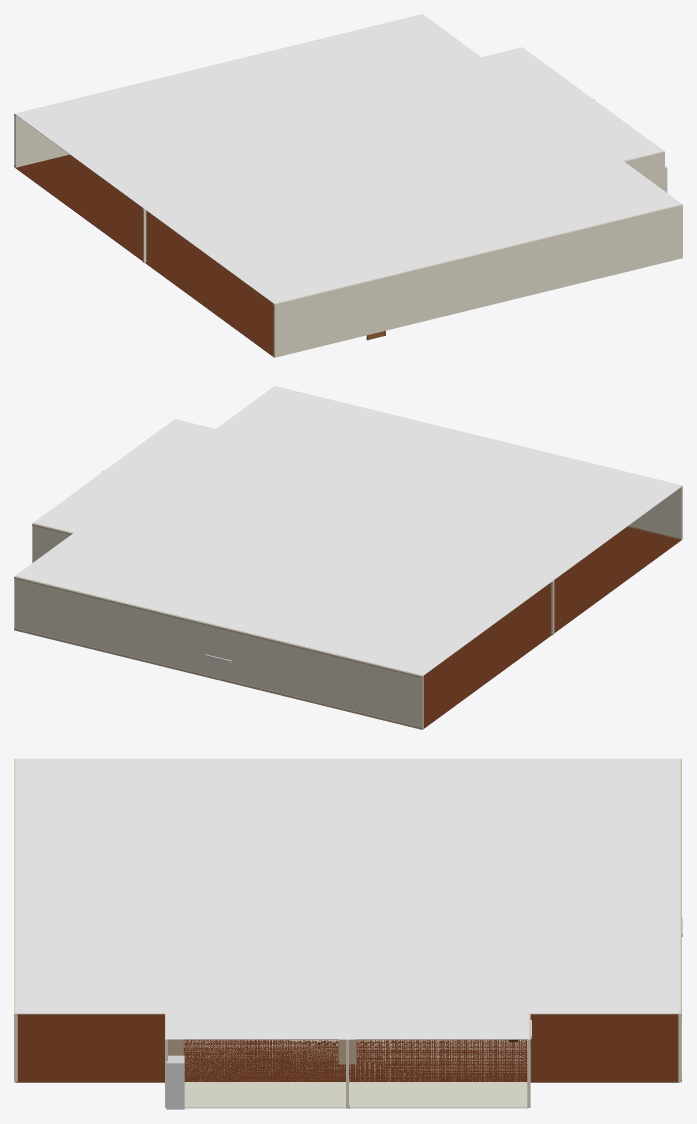
File: ultra_detailed_9526.obj
The picture shows the model from 3 angles, top to bottom: view 1: azimuth 30°, elevation 25°; view 2: azimuth 150°, elevation 25°; view 3: azimuth 270°, elevation 25°; orthographic projection. The views are drawn at different scales.
Visible parts, largest first — view 1: Studio_ceiling_Studio_ceiling_material, Studio_front_wall_Studio_front_wall_material, Kitchenette_ceiling_Kitchenette_ceiling_material, Studio_floor_Studio_floor_material, Bathroom_ceiling_Bathroom_ceiling_material, Studio_back_wall_Studio_back_wall_material, Kitchenette_front_wall_Kitchenette_front_wall_material; view 2: Studio_ceiling_Studio_ceiling_material, Kitchenette_ceiling_Kitchenette_ceiling_material, Studio_back_wall_Studio_back_wall_material, Studio_floor_Studio_floor_material, Bathroom_ceiling_Bathroom_ceiling_material, Studio_front_wall_Studio_front_wall_material, Studio_back_wall_baseboard_Studio_back_wall_baseboard_material, Studio_back_wall_crown_Studio_back_wall_baseboard_material, Kitchenette_back_wall_Kitchenette_back_wall_material; view 3: Studio_ceiling_Studio_ceiling_material, Kitchenette_ceiling_Kitchenette_ceiling_material, Studio_floor_Studio_floor_material, Kitchenette_floor_Kitchenette_floor_material, Bathroom_ceiling_Bathroom_ceiling_material, Studio_back_wall_Studio_back_wall_material, Kitchenette_fridge_Kitchenette_fridge_material, Studio_front_wall_Studio_front_wall_material.
Boxes of the visible parts, x1=… form: Studio_ceiling_Studio_ceiling_material: x1=15, y1=14, x2=681, y2=303; Studio_front_wall_Studio_front_wall_material: x1=273, y1=204, x2=682, y2=357; Kitchenette_ceiling_Kitchenette_ceiling_material: x1=360, y1=47, x2=663, y2=190; Studio_floor_Studio_floor_material: x1=15, y1=154, x2=274, y2=357; Bathroom_ceiling_Bathroom_ceiling_material: x1=237, y1=97, x2=365, y2=151; Studio_back_wall_Studio_back_wall_material: x1=14, y1=14, x2=422, y2=167; Kitchenette_front_wall_Kitchenette_front_wall_material: x1=624, y1=151, x2=664, y2=190; Studio_ceiling_Studio_ceiling_material: x1=15, y1=386, x2=681, y2=675; Kitchenette_ceiling_Kitchenette_ceiling_material: x1=33, y1=419, x2=336, y2=562; Studio_back_wall_Studio_back_wall_material: x1=14, y1=576, x2=423, y2=729; Studio_floor_Studio_floor_material: x1=423, y1=526, x2=681, y2=729; Bathroom_ceiling_Bathroom_ceiling_material: x1=237, y1=538, x2=364, y2=592; Studio_front_wall_Studio_front_wall_material: x1=275, y1=386, x2=682, y2=539; Studio_back_wall_baseboard_Studio_back_wall_baseboard_material: x1=14, y1=628, x2=422, y2=729; Studio_back_wall_crown_Studio_back_wall_baseboard_material: x1=14, y1=577, x2=422, y2=677; Kitchenette_back_wall_Kitchenette_back_wall_material: x1=32, y1=523, x2=73, y2=562; Studio_ceiling_Studio_ceiling_material: x1=15, y1=758, x2=679, y2=1014; Kitchenette_ceiling_Kitchenette_ceiling_material: x1=166, y1=937, x2=528, y2=1039; Studio_floor_Studio_floor_material: x1=16, y1=1014, x2=679, y2=1082; Kitchenette_floor_Kitchenette_floor_material: x1=183, y1=1039, x2=528, y2=1108; Bathroom_ceiling_Bathroom_ceiling_material: x1=408, y1=860, x2=528, y2=911; Studio_back_wall_Studio_back_wall_material: x1=678, y1=758, x2=681, y2=1082; Kitchenette_fridge_Kitchenette_fridge_material: x1=166, y1=1055, x2=184, y2=1109; Studio_front_wall_Studio_front_wall_material: x1=14, y1=758, x2=16, y2=1082.
Bounding box in the file's own units: 22.2 × 2.76 × 22.16.
